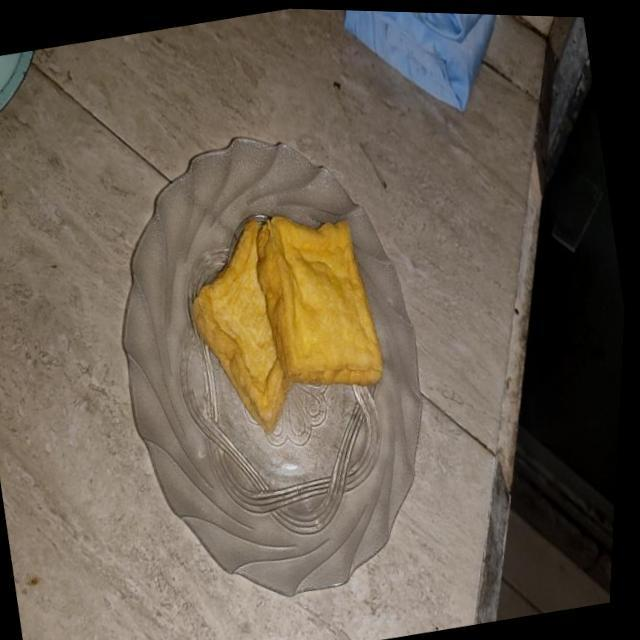tahu_goreng: (192, 221, 294, 434), (257, 217, 382, 386)
